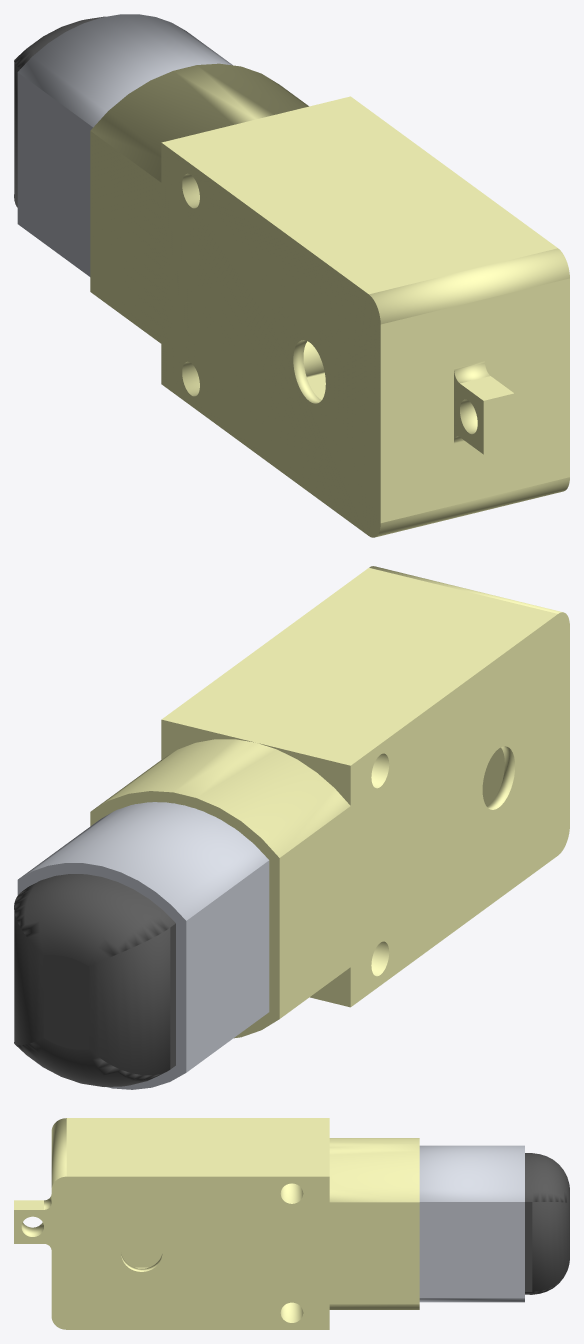
File: motor_left.dae
3 renders of one model, top to bottom at view 1: azimuth 30°, elevation 25°; view 2: azimuth 150°, elevation 25°; view 3: azimuth 270°, elevation 25°, orthographic. The views are drawn at different scales.
Parts seen in each view (by area): view 1: _ncl1_3; view 2: _ncl1_3; view 3: _ncl1_3.
Part boxes in pixels (x1,y1,x2,y2): _ncl1_3: (14, 14, 569, 537); _ncl1_3: (14, 566, 569, 1089); _ncl1_3: (14, 1118, 569, 1329).
Bounding box in the file's own units: 0.0184 × 0.074 × 0.0225.
